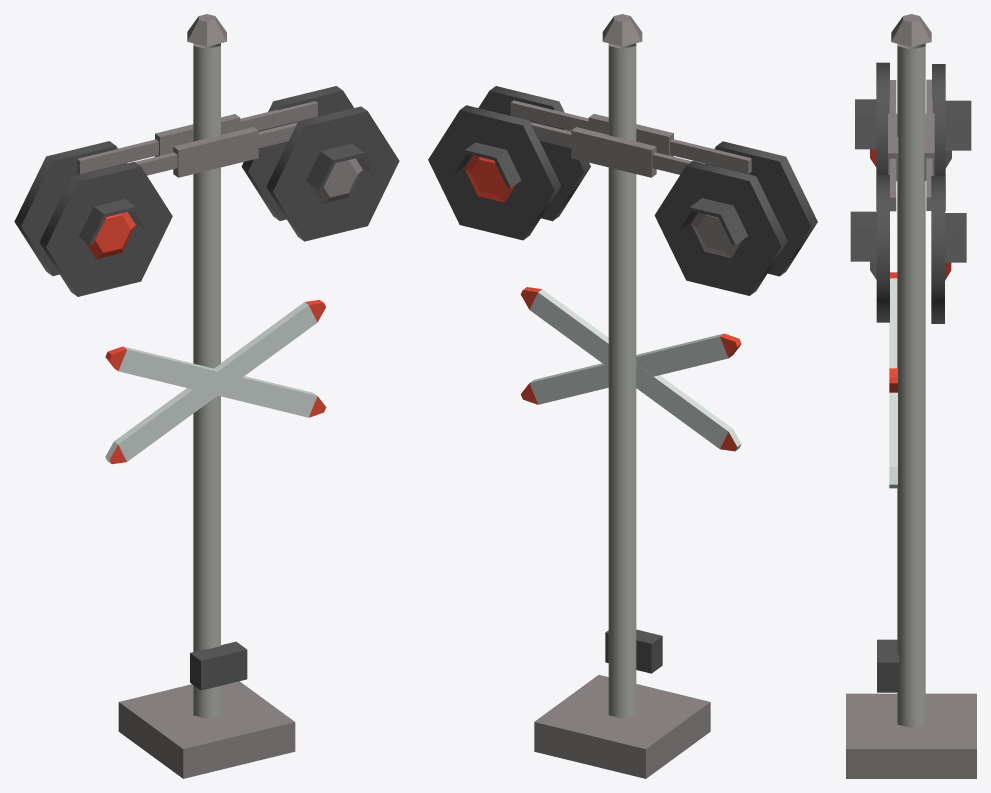
The model's file is SM_Lights_01.fbx.
3 views of the same model, side by side, from view 1: azimuth 30°, elevation 25°; view 2: azimuth 150°, elevation 25°; view 3: azimuth 270°, elevation 25° (orthographic).
Parts seen in each view (by area): view 1: SM_Lights_01; view 2: SM_Lights_01; view 3: SM_Lights_01.
Boxes of the visible parts, x1,y1,x2,y2 form: SM_Lights_01: (14, 14, 399, 778); SM_Lights_01: (428, 14, 817, 778); SM_Lights_01: (846, 14, 976, 778).
Bounding box in the file's own units: 127 × 247 × 40.
